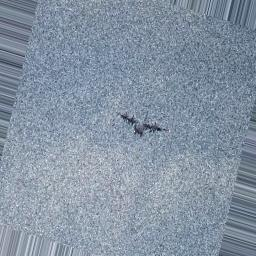Airplane: (120, 113, 167, 135)
